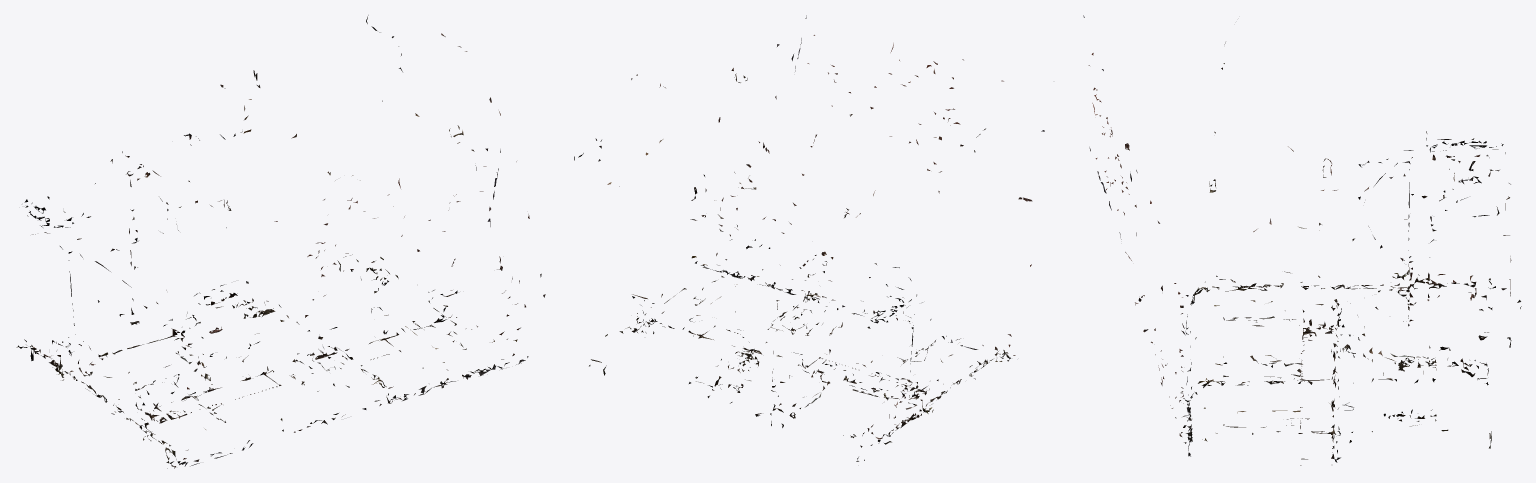
3 renders of one model, left to right at view 1: azimuth 30°, elevation 25°; view 2: azimuth 150°, elevation 25°; view 3: azimuth 270°, elevation 25°, orthographic. The views are drawn at different scales.
Bounding box in the file's own units: 12.39 × 9.39 × 12.08.
1 material, 1 textured.
